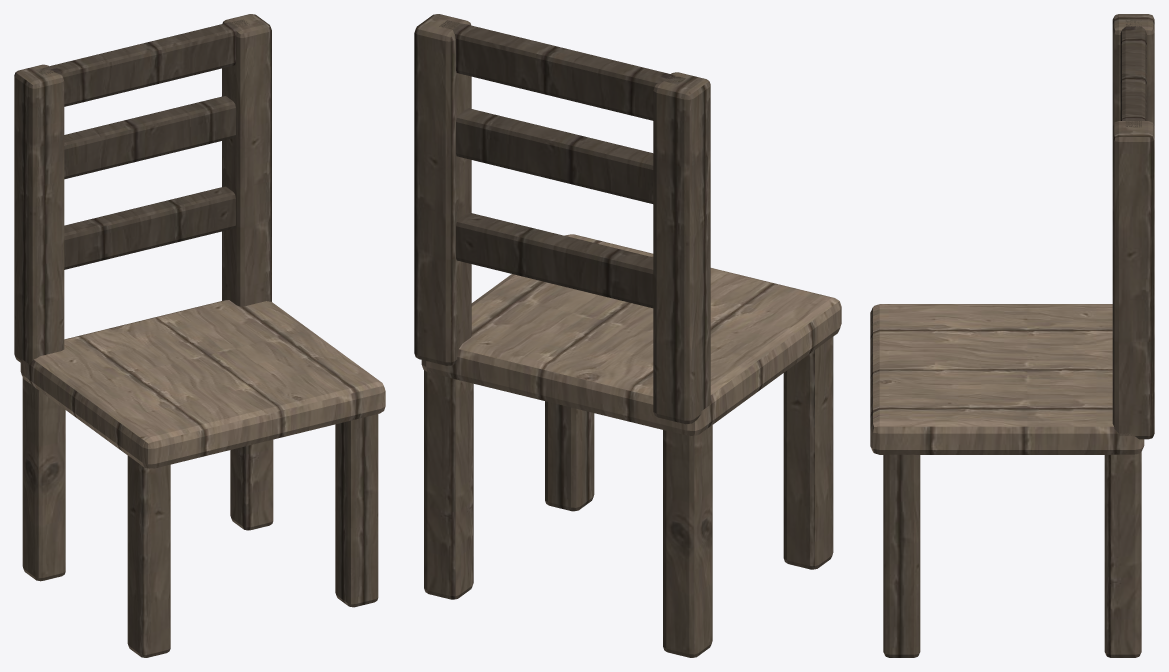
Rendered from chair__plank_mushroom.glb.
The picture shows the model from 3 angles, left to right: view 1: azimuth 30°, elevation 25°; view 2: azimuth 150°, elevation 25°; view 3: azimuth 270°, elevation 25°; orthographic projection. The views are drawn at different scales.
Parts seen in each view (by area): view 1: model; view 2: model; view 3: model.
Part boxes in pixels (box(x1,y1,x2,y2)): model: box(14, 14, 385, 657); model: box(414, 14, 841, 657); model: box(870, 14, 1154, 657).
Size of the model in its own units: 0.56 by 1.1 by 0.54.
3 materials, 3 textured.
